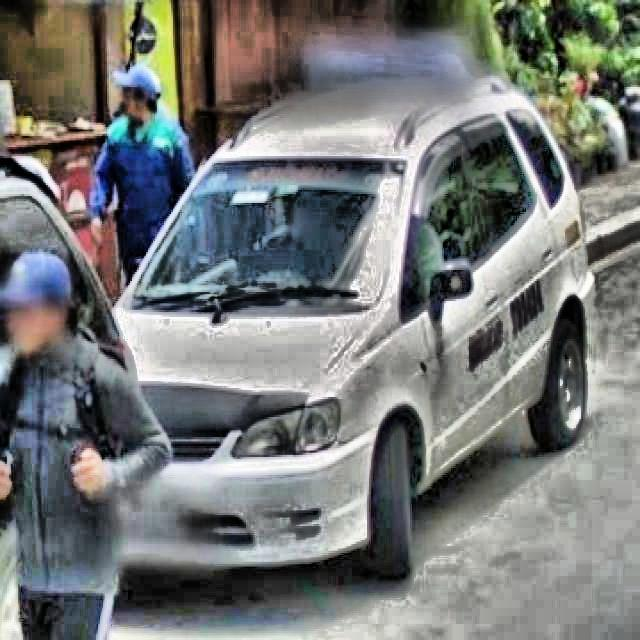carro: (90, 74, 605, 596)
